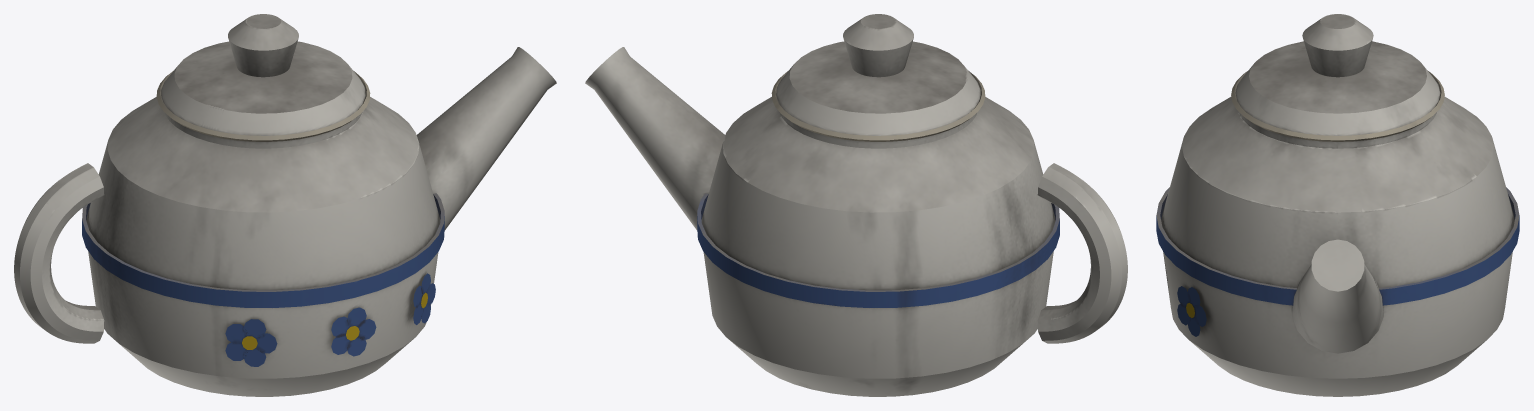
File: SM_Teapot_Porcelain.fbx
3 renders of one model, left to right at view 1: azimuth 30°, elevation 25°; view 2: azimuth 150°, elevation 25°; view 3: azimuth 270°, elevation 25°, orthographic.
Parts seen in each view (by area): view 1: SM_Teapot_Porcelain; view 2: SM_Teapot_Porcelain; view 3: SM_Teapot_Porcelain.
Boxes of the visible parts, x1,y1,x2,y2 form: SM_Teapot_Porcelain: (14, 14, 556, 396); SM_Teapot_Porcelain: (585, 14, 1127, 396); SM_Teapot_Porcelain: (1156, 14, 1519, 396).
Size of the model in its own units: 0.2771 by 0.162 by 0.163.
1 material, 1 textured.
